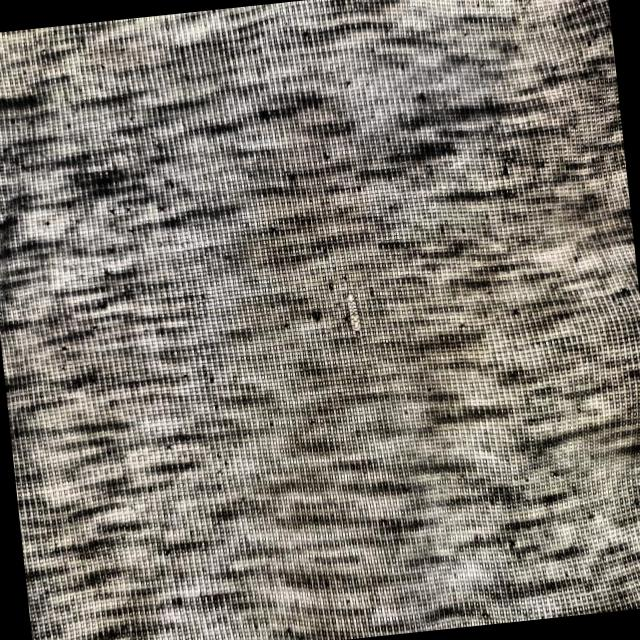cut: (340, 284, 370, 344)
